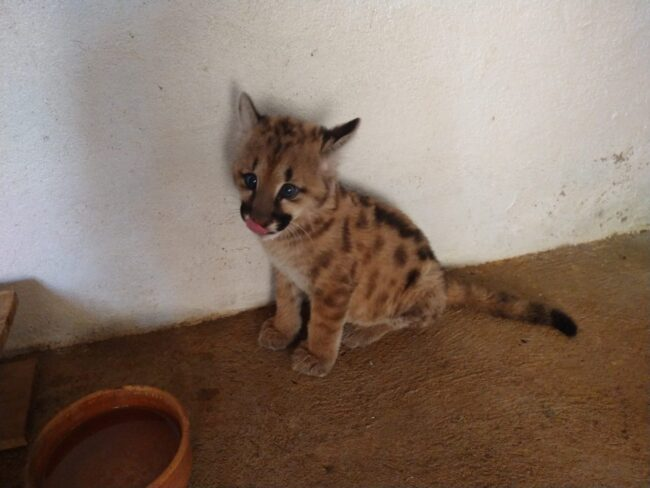OncaParda: (224, 88, 581, 376)
